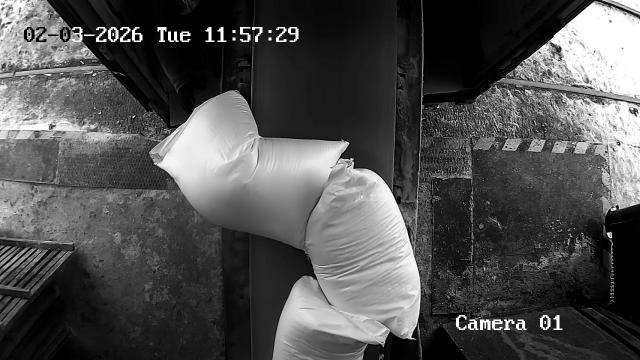bag: (150, 91, 350, 250), (305, 158, 422, 342), (272, 277, 390, 360)
